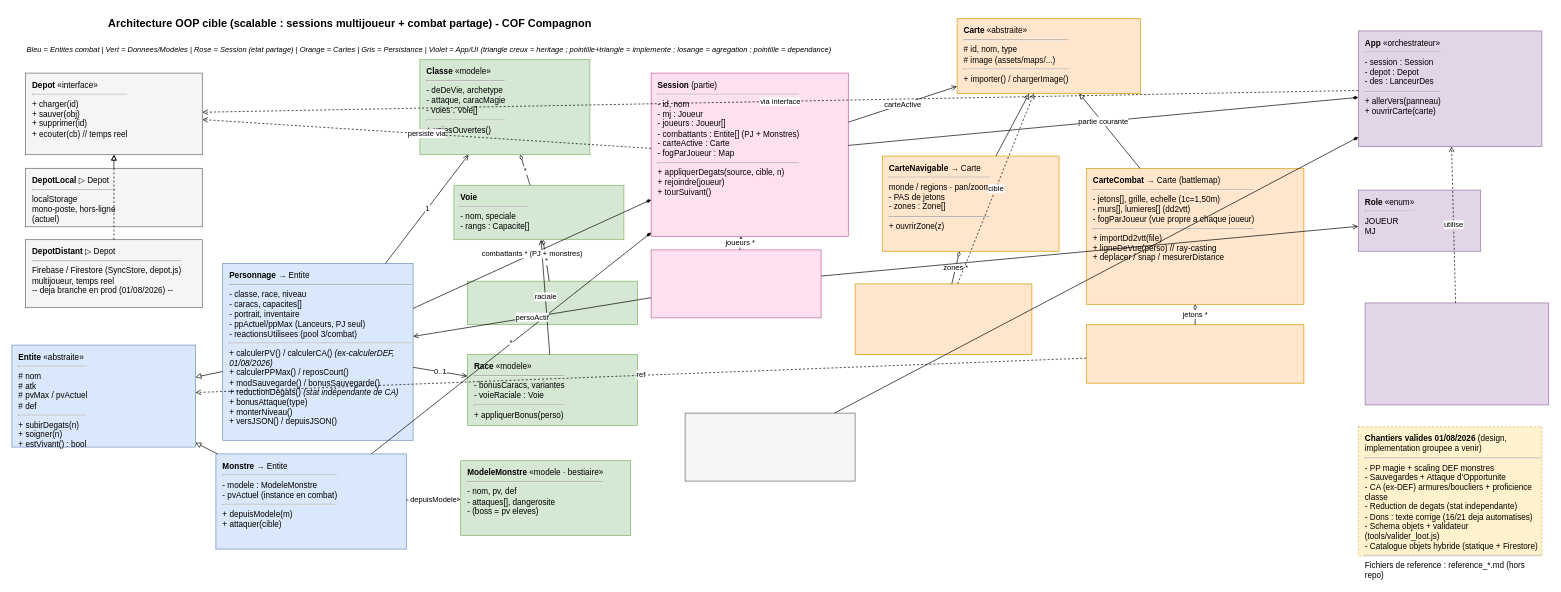
The diagram is 1561 pixels wide and 592 high, and some of its shapes have lost their labels. Here are the shapes that lost their labels. From the top down, the box of each, then its label:
(467, 280, 638, 325): Capacite - rang, nom, effet
(650, 249, 821, 318): Joueur - id, nom - role : Role - persoActif : Personnage
(854, 283, 1032, 355): Zone (cliquable) - forme, libelle - cible : Carte + auClic() → ouvrir(cible)
(1086, 324, 1304, 383): Jeton - id, x, y, couleur, portrait - ref → Entite (PJ ou Monstre)
(1364, 302, 1549, 405): Vues (UI) Creation · Fiche · Des Carte · Bestiaire Regles · Lore + rendre()
(684, 412, 855, 481): LanceurDes «service» - historique : Jet[] + de(faces) / test(...) / formule(...)
